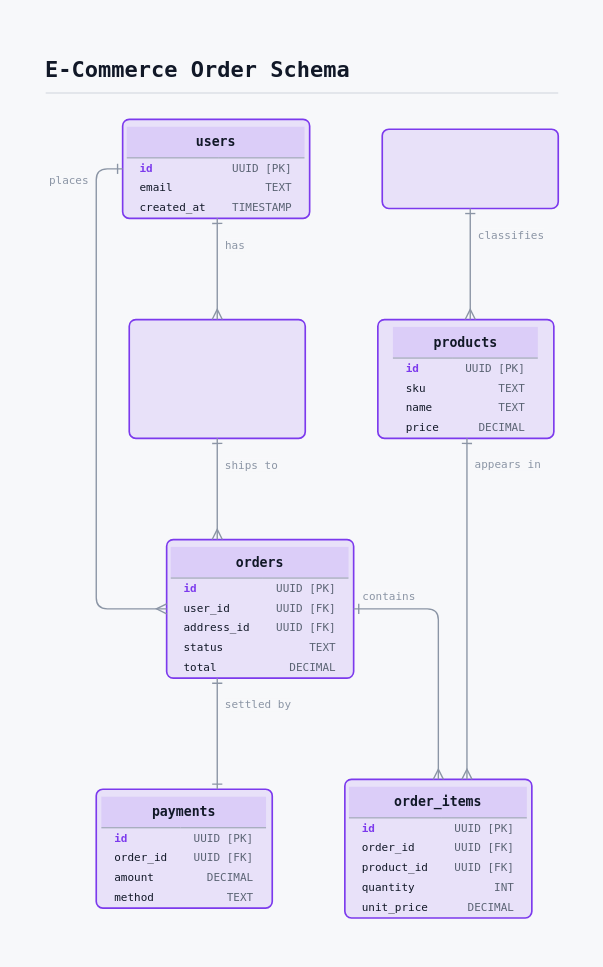
Some shapes in this 603 by 967 pixel diagram are drawn without their labels. The centre of each missing label's shape, as x and y in pixels:
addresses id UUID [PK] user_id UUID [FK] line1 TEXT city TEXT: (217,378)
categories id UUID [PK] name TEXT: (470,168)
